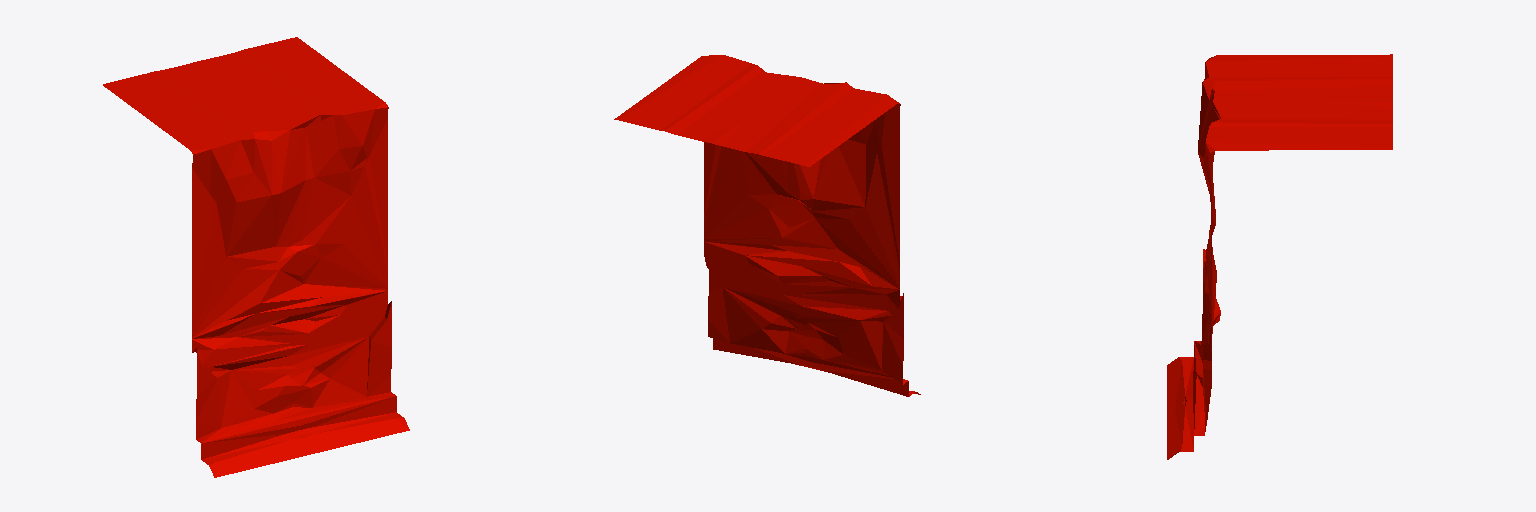
File: Side.obj
3 views of the same model, side by side, from view 1: azimuth 30°, elevation 25°; view 2: azimuth 150°, elevation 25°; view 3: azimuth 270°, elevation 25° (orthographic).
Visible parts, largest first — view 1: Untitled.003; view 2: Untitled.003; view 3: Untitled.003.
Boxes of the visible parts, box(x1,y1,x2,y2) form: Untitled.003: box(103, 37, 409, 477); Untitled.003: box(614, 55, 920, 396); Untitled.003: box(1167, 54, 1392, 459).
Bounding box in the file's own units: 2.5 × 3.83 × 2.5.